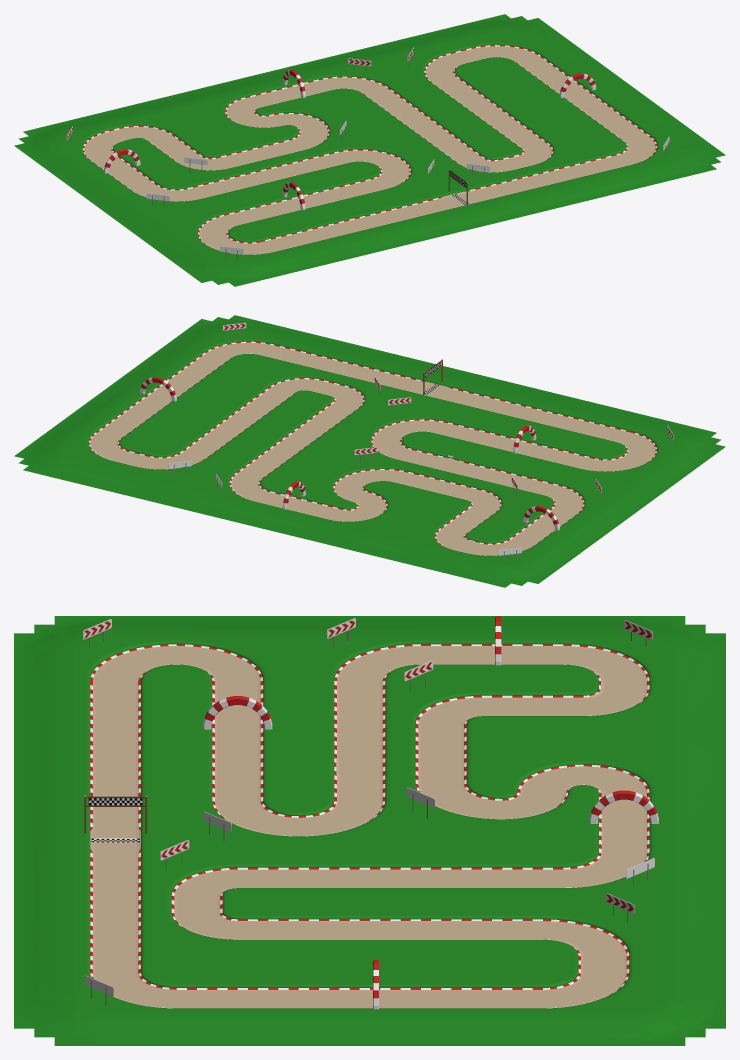
The model's file is track_2_modified 2.glb.
3 views of the same model, one above another, from view 1: azimuth 30°, elevation 25°; view 2: azimuth 150°, elevation 25°; view 3: azimuth 270°, elevation 25° (orthographic). The views are drawn at different scales.
Parts seen in each view (by area): view 1: mergedBlocks(Clone); view 2: mergedBlocks(Clone); view 3: mergedBlocks(Clone).
Part boxes in pixels (bbox=[...]): mergedBlocks(Clone): bbox=[14, 14, 725, 286]; mergedBlocks(Clone): bbox=[14, 315, 725, 587]; mergedBlocks(Clone): bbox=[14, 616, 725, 1045].
Bounding box in the file's own units: 50 × 2.45 × 35.
